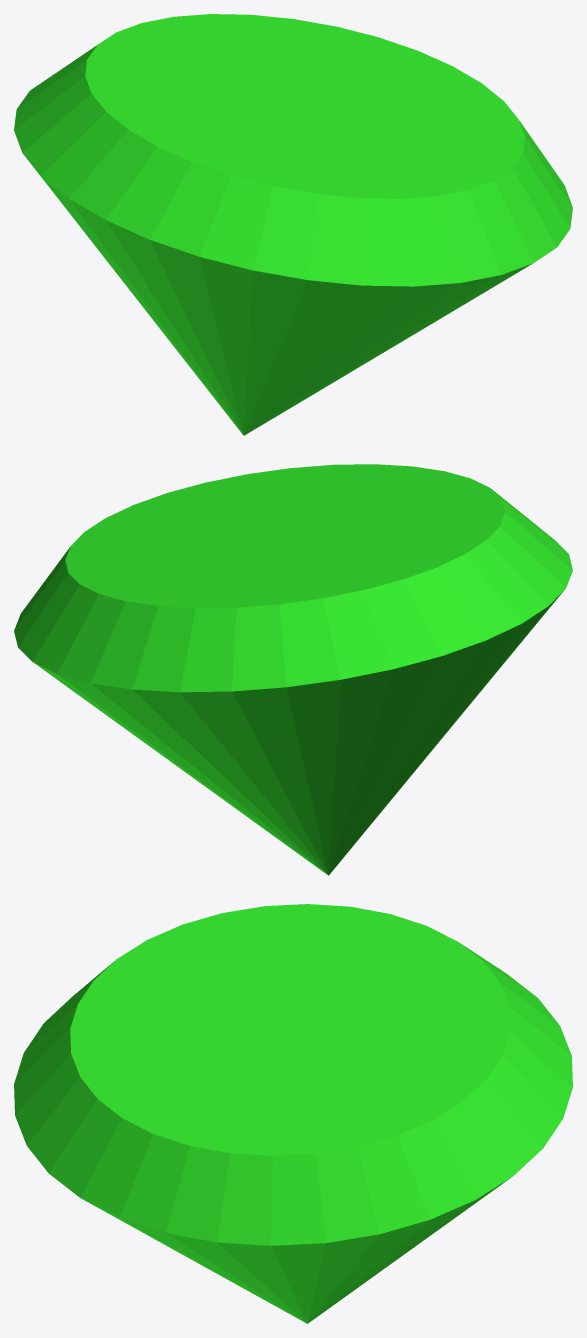
File: Emerald.fbx
3 views of the same model, one above another, from view 1: azimuth 30°, elevation 25°; view 2: azimuth 150°, elevation 25°; view 3: azimuth 270°, elevation 25° (orthographic).
Visible parts, largest first — view 1: Emerald.001; view 2: Emerald.001; view 3: Emerald.001.
Boxes of the visible parts, x1,y1,x2,y2 form: Emerald.001: (14, 14, 572, 435); Emerald.001: (14, 464, 572, 875); Emerald.001: (14, 904, 572, 1323).
Size of the model in its own units: 39.75 by 28.19 by 40.31.
